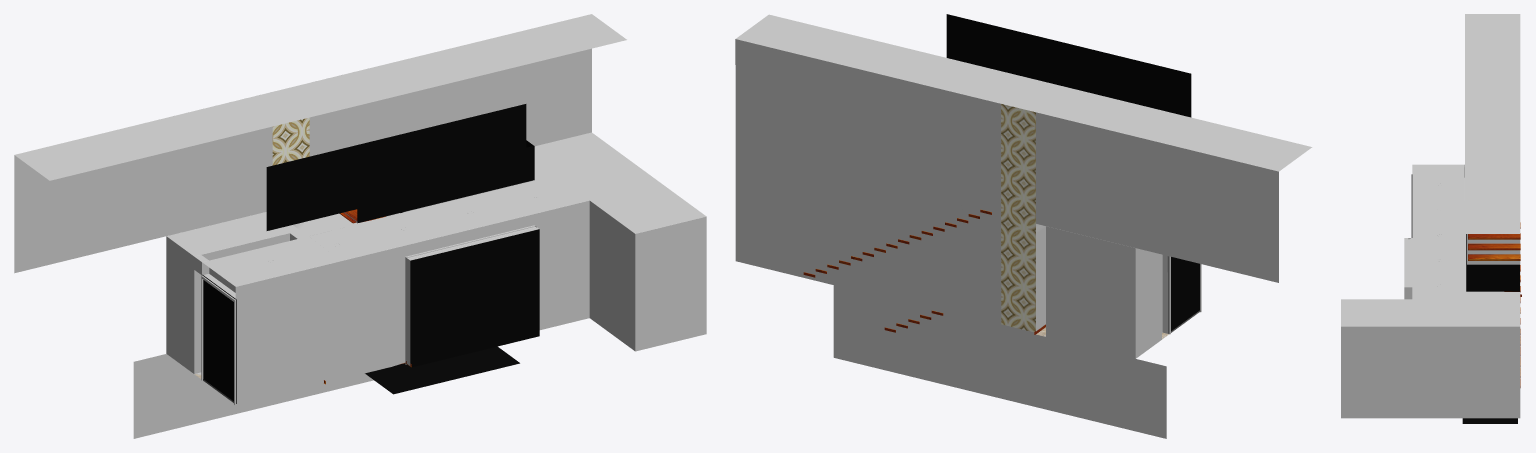
File: staircase.obj
3 views of the same model, side by side, from view 1: azimuth 30°, elevation 25°; view 2: azimuth 150°, elevation 25°; view 3: azimuth 270°, elevation 25° (orthographic). The views are drawn at different scales.
Visible parts, largest first — view 1: Mesh000, light0, light1, Mesh009, light2, light3, Mesh014, Mesh018, Mesh012; view 2: Mesh000, light0, Mesh018, light2, Mesh009, Mesh001; view 3: Mesh000, Mesh009, Mesh014, Mesh001, light3.
Boxes of the visible parts, x1=… form: Mesh000: x1=14, y1=14, x2=706, y2=438; light0: x1=266, y1=104, x2=526, y2=230; light1: x1=410, y1=229, x2=539, y2=367; Mesh009: x1=273, y1=83, x2=512, y2=378; light2: x1=202, y1=274, x2=236, y2=403; light3: x1=365, y1=346, x2=519, y2=394; Mesh014: x1=357, y1=140, x2=534, y2=222; Mesh018: x1=272, y1=117, x2=309, y2=165; Mesh012: x1=201, y1=275, x2=237, y2=404; Mesh000: x1=735, y1=14, x2=1312, y2=438; light0: x1=946, y1=14, x2=1191, y2=117; Mesh018: x1=1001, y1=104, x2=1035, y2=332; light2: x1=1168, y1=256, x2=1199, y2=333; Mesh009: x1=802, y1=56, x2=1068, y2=129; Mesh001: x1=803, y1=209, x2=991, y2=332; Mesh000: x1=1341, y1=14, x2=1520, y2=418; Mesh009: x1=1412, y1=112, x2=1520, y2=223; Mesh014: x1=1466, y1=234, x2=1519, y2=291; Mesh001: x1=1468, y1=222, x2=1520, y2=387; light3: x1=1462, y1=418, x2=1517, y2=423.
Size of the model in its own units: 28.88 by 15.15 by 10.03.
13 materials, 3 textured.
